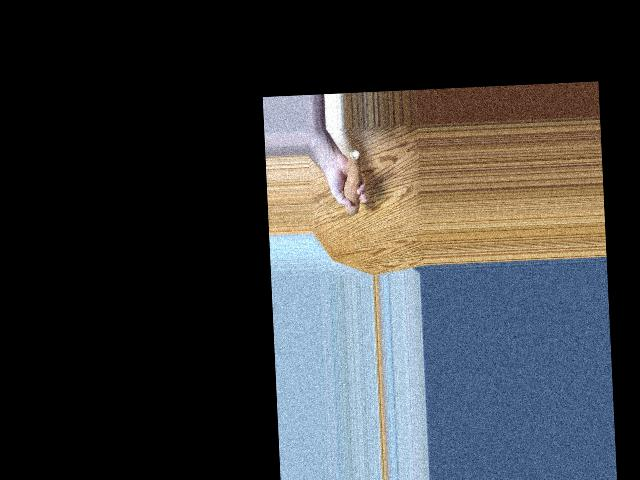sweet_potato: (345, 147, 365, 219)
